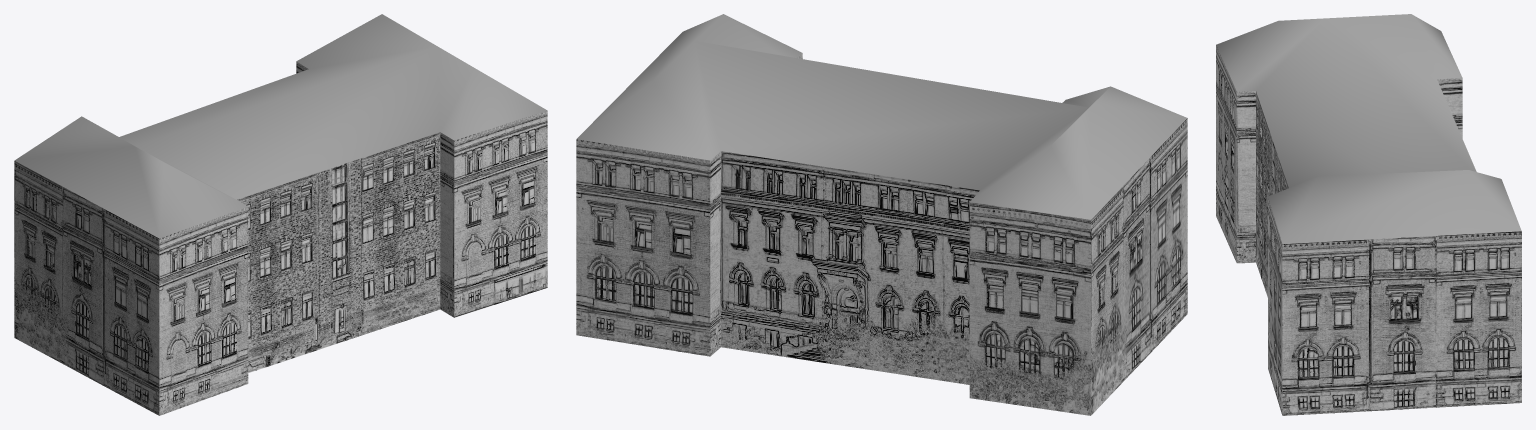
Rendered from Berndt-Bau.gltf.
3 renders of one model, left to right at view 1: azimuth 30°, elevation 25°; view 2: azimuth 150°, elevation 25°; view 3: azimuth 270°, elevation 25°, orthographic. The views are drawn at different scales.
Parts seen in each view (by area): view 1: Dach.1; view 2: Dach.1; view 3: Dach.1.
Part boxes in pixels (bbox=[...]): Dach.1: bbox=[14, 14, 547, 415]; Dach.1: bbox=[576, 14, 1187, 415]; Dach.1: bbox=[1216, 14, 1521, 415].
Bounding box in the file's own units: 47.92 × 22.36 × 29.03.
Materials: 10 (9 with a texture image).
